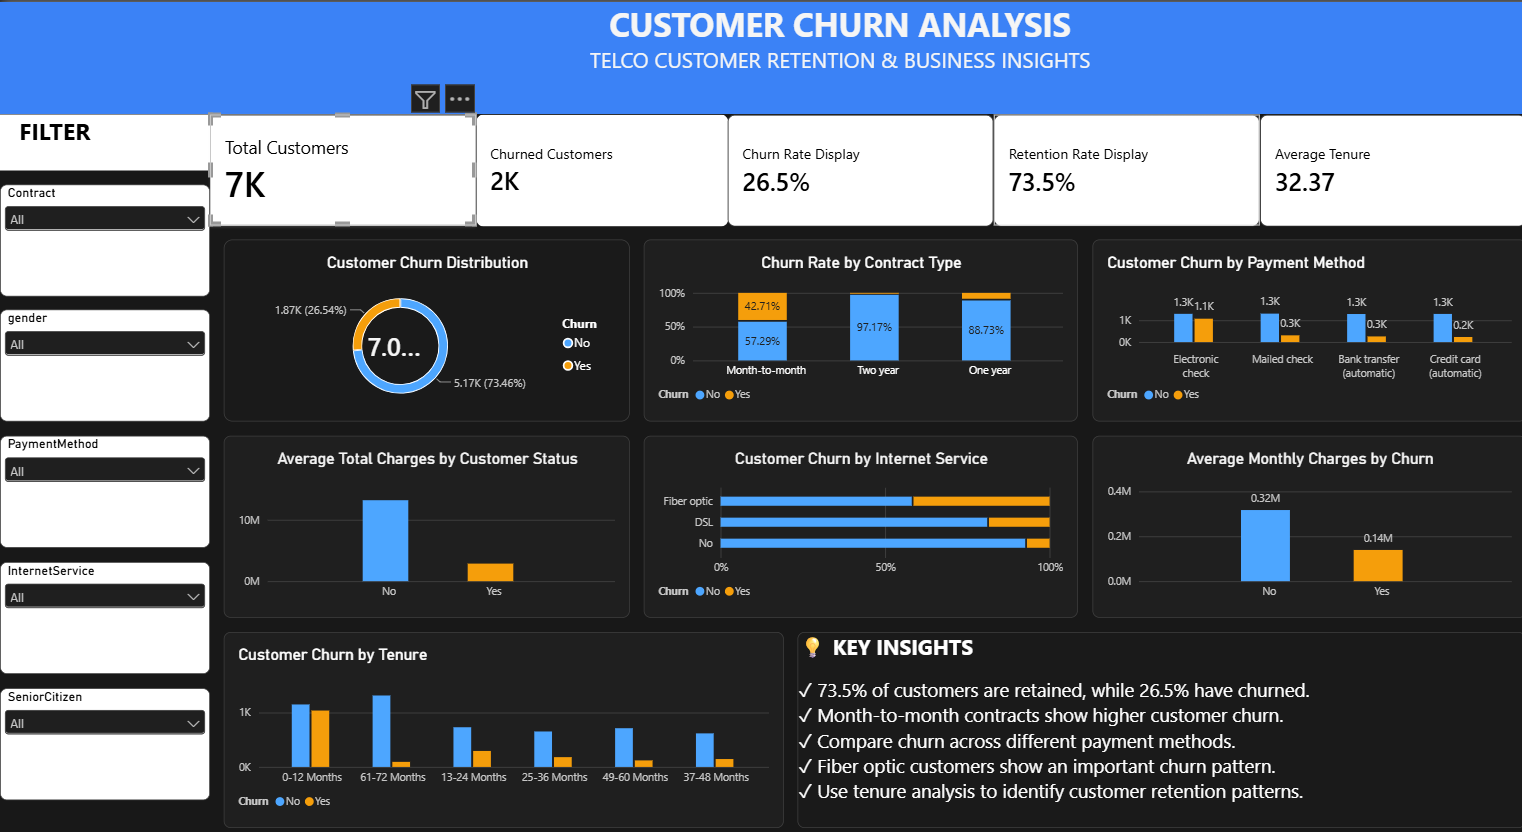

What the dashboard file says about the page in this screenshot:
{"tool":"powerbi","page":{"name":"Page 1","canvas":[1920,1080],"ordinal":0},"visuals":[{"type":"cardVisual","fields":{"Data":["cleaned_customer_churn.Total Customers"]},"box":[240,128,304,128],"z":0},{"type":"donutChart","title":"Customer Churn Distribution","fields":{"Category":["cleaned_customer_churn.Churn"],"Y":["CountNonNull(cleaned_customer_churn.customerID)"]},"box":[256,272,464,208],"z":1000},{"type":"hundredPercentStackedColumnChart","title":"Churn Rate by Contract Type","fields":{"Category":["cleaned_customer_churn.Contract"],"Series":["cleaned_customer_churn.Churn"],"Y":["CountNonNull(cleaned_customer_churn.customerID)"]},"box":[736,272,496,208],"z":2000},{"type":"clusteredColumnChart","title":"Customer Churn by Payment Method","fields":{"Category":["cleaned_customer_churn.PaymentMethod"],"Series":["cleaned_customer_churn.Churn"],"Y":["Count(cleaned_customer_churn.customerID)"]},"box":[1248,272,496,208],"z":3000},{"type":"cardVisual","fields":{"Data":["cleaned_customer_churn.Churned Customers"]},"box":[544,128,288,128],"z":4000},{"type":"cardVisual","fields":{"Data":["cleaned_customer_churn.Churn Rate Display"]},"box":[832,128,304,128],"z":5000},{"type":"cardVisual","fields":{"Data":["cleaned_customer_churn.Retention Rate Display"]},"box":[1136,128,304,128],"z":6000},{"type":"cardVisual","fields":{"Data":["cleaned_customer_churn.Average Tenure"]},"box":[1440,128,304,128],"z":7000},{"type":"clusteredColumnChart","title":"Customer Churn by Tenure","fields":{"Category":["cleaned_customer_churn.Tenure Group"],"Series":["cleaned_customer_churn.Churn"],"Y":["CountNonNull(cleaned_customer_churn.customerID)"]},"box":[256,720,640,224],"z":8000},{"type":"hundredPercentStackedBarChart","title":"Customer Churn by Internet Service","fields":{"Category":["cleaned_customer_churn.InternetService"],"Series":["cleaned_customer_churn.Churn"],"Y":["Count(cleaned_customer_churn.customerID)"]},"box":[736,496,496,208],"z":9000},{"type":"clusteredColumnChart","title":"Average Monthly Charges by Churn","fields":{"Category":["cleaned_customer_churn.Churn"],"Y":["Sum(cleaned_customer_churn.MonthlyCharges)"]},"box":[1248,496,496,208],"z":10000},{"type":"clusteredColumnChart","title":"Average Total Charges by Customer Status","fields":{"Category":["cleaned_customer_churn.Churn"],"Y":["cleaned_customer_churn.Total Charges"]},"box":[256,496,464,208],"z":11000},{"type":"slicer","fields":{"Values":["cleaned_customer_churn.Contract"]},"box":[0,208,240,128],"z":12000},{"type":"slicer","fields":{"Values":["cleaned_customer_churn.gender"]},"box":[0,352,240,128],"z":13000},{"type":"slicer","fields":{"Values":["cleaned_customer_churn.PaymentMethod"]},"box":[0,496,240,128],"z":13001},{"type":"slicer","fields":{"Values":["cleaned_customer_churn.InternetService"]},"box":[0,640,240,128],"z":13002},{"type":"slicer","fields":{"Values":["cleaned_customer_churn.SeniorCitizen"]},"box":[0,784,240,128],"z":13003},{"type":"textbox","box":[0,0,1920,128],"z":13004},{"type":"textbox","box":[912,720,832,224],"z":13005},{"type":"textbox","box":[0,128,240,64],"z":13007}]}

Visuals, with their boxes in screenshot pixels (x1, y1, x2, y2), scaled from the page's 1920x1080 canvas onto the 1522x832 screenshot:
cardVisual - cleaned_customer_churn.Total Customers: 190 99 431 197
"Customer Churn Distribution" donutChart: 203 210 571 370
"Churn Rate by Contract Type" hundredPercentStackedColumnChart: 583 210 977 370
"Customer Churn by Payment Method" clusteredColumnChart: 989 210 1382 370
cardVisual - cleaned_customer_churn.Churned Customers: 431 99 660 197
cardVisual - cleaned_customer_churn.Churn Rate Display: 660 99 901 197
cardVisual - cleaned_customer_churn.Retention Rate Display: 901 99 1142 197
cardVisual - cleaned_customer_churn.Average Tenure: 1142 99 1382 197
"Customer Churn by Tenure" clusteredColumnChart: 203 555 710 727
"Customer Churn by Internet Service" hundredPercentStackedBarChart: 583 382 977 542
"Average Monthly Charges by Churn" clusteredColumnChart: 989 382 1382 542
"Average Total Charges by Customer Status" clusteredColumnChart: 203 382 571 542
slicer - cleaned_customer_churn.Contract: 0 160 190 259
slicer - cleaned_customer_churn.gender: 0 271 190 370
slicer - cleaned_customer_churn.PaymentMethod: 0 382 190 481
slicer - cleaned_customer_churn.InternetService: 0 493 190 592
slicer - cleaned_customer_churn.SeniorCitizen: 0 604 190 703
textbox: 0 0 1521 99
textbox: 723 555 1382 727
textbox: 0 99 190 148
